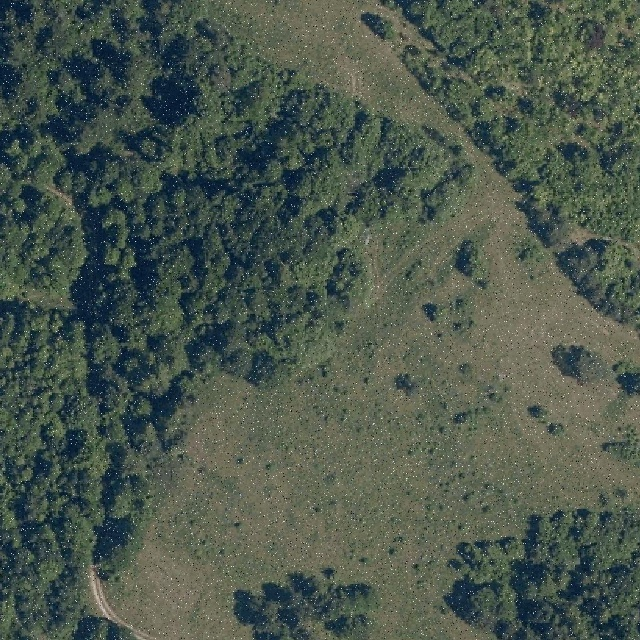vegetation: (359, 0, 640, 331), (446, 507, 640, 640), (237, 563, 374, 640)
